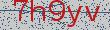7: (7, 1, 29, 27)
9: (47, 1, 66, 27)
h: (28, 1, 47, 28)
v: (83, 2, 103, 29)
y: (66, 1, 83, 28)
